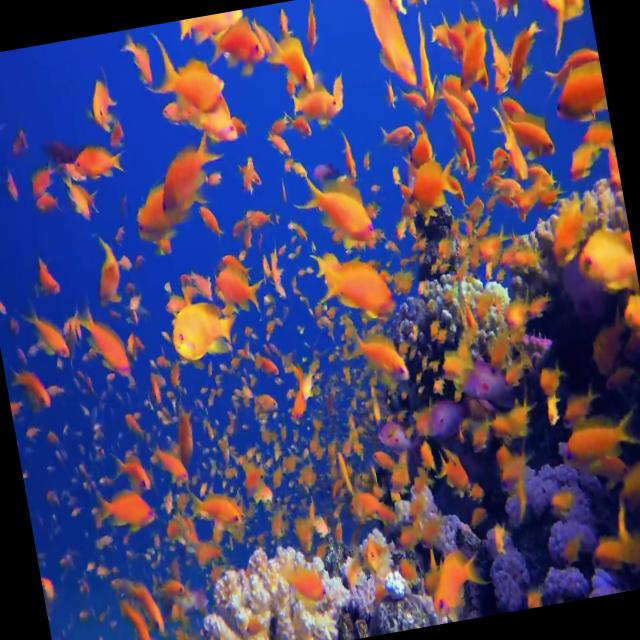fish: (136, 18, 236, 135), (290, 159, 388, 266), (137, 122, 237, 218), (340, 0, 422, 101), (313, 244, 402, 328), (68, 297, 136, 397), (206, 232, 278, 324), (250, 17, 323, 105), (547, 395, 640, 464), (335, 322, 417, 399), (162, 290, 242, 366), (83, 474, 169, 544), (579, 491, 640, 588), (569, 214, 639, 296), (387, 142, 459, 220), (486, 3, 546, 96), (540, 60, 611, 138), (76, 210, 132, 304), (424, 542, 488, 624), (182, 470, 256, 540), (280, 61, 350, 134), (403, 12, 448, 120), (20, 304, 76, 383), (440, 14, 494, 94), (70, 66, 130, 136), (119, 562, 171, 640), (278, 543, 338, 610), (4, 349, 57, 422), (506, 92, 560, 162), (125, 180, 176, 253), (111, 30, 170, 90), (109, 440, 156, 506), (436, 75, 482, 138), (24, 241, 70, 303), (446, 109, 484, 184), (151, 438, 197, 491), (113, 595, 165, 640), (372, 112, 422, 156), (425, 439, 467, 491), (610, 439, 640, 506), (338, 123, 365, 184), (282, 374, 315, 421), (617, 284, 640, 344), (0, 98, 11, 169)
